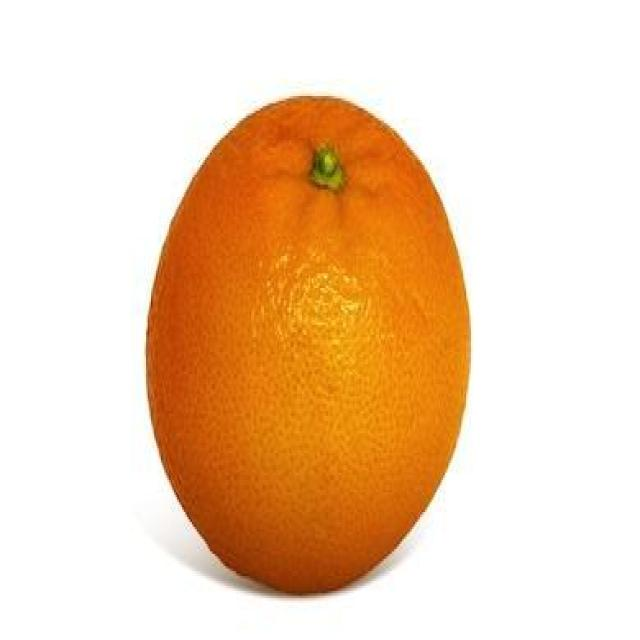orange: (143, 89, 472, 595)
